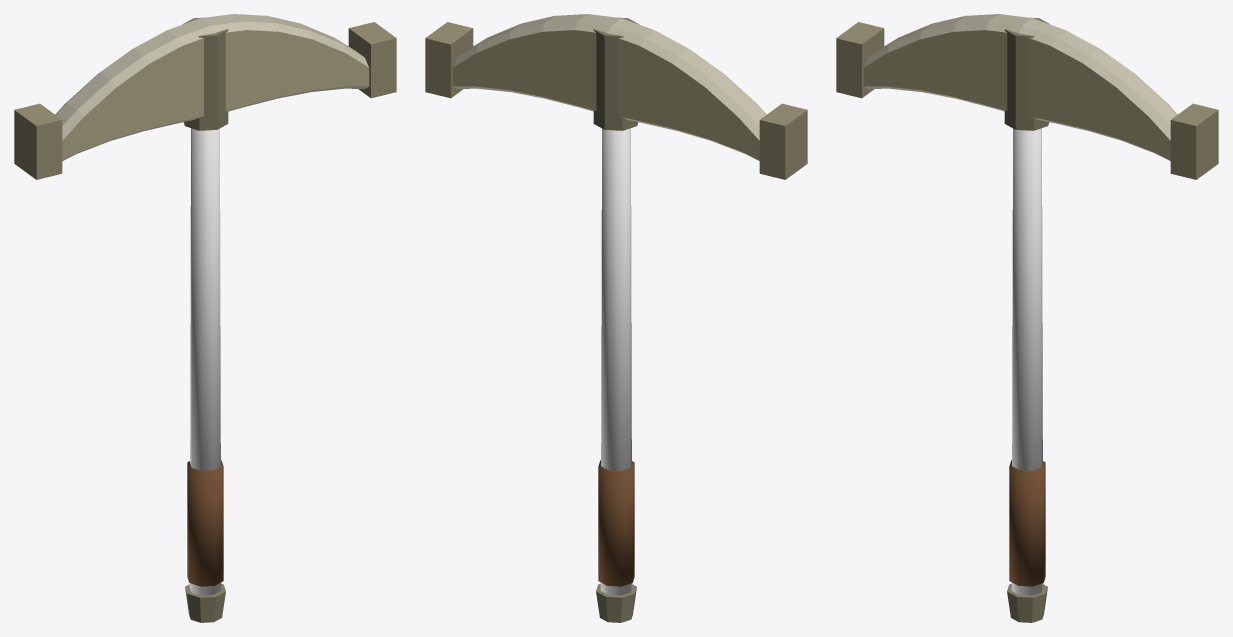
The model's file is tin_pickaxe.glb.
3 renders of one model, left to right at view 1: azimuth 30°, elevation 25°; view 2: azimuth 150°, elevation 25°; view 3: azimuth 330°, elevation 25°, orthographic.
Parts seen in each view (by area): view 1: tin_pickaxe_v0; view 2: tin_pickaxe_v0; view 3: tin_pickaxe_v0.
Part boxes in pixels (x1,y1,x2,y2): tin_pickaxe_v0: (14, 14, 396, 622); tin_pickaxe_v0: (425, 14, 807, 622); tin_pickaxe_v0: (836, 14, 1218, 622).
Size of the model in its own units: 0.56 by 0.8825 by 0.064.
